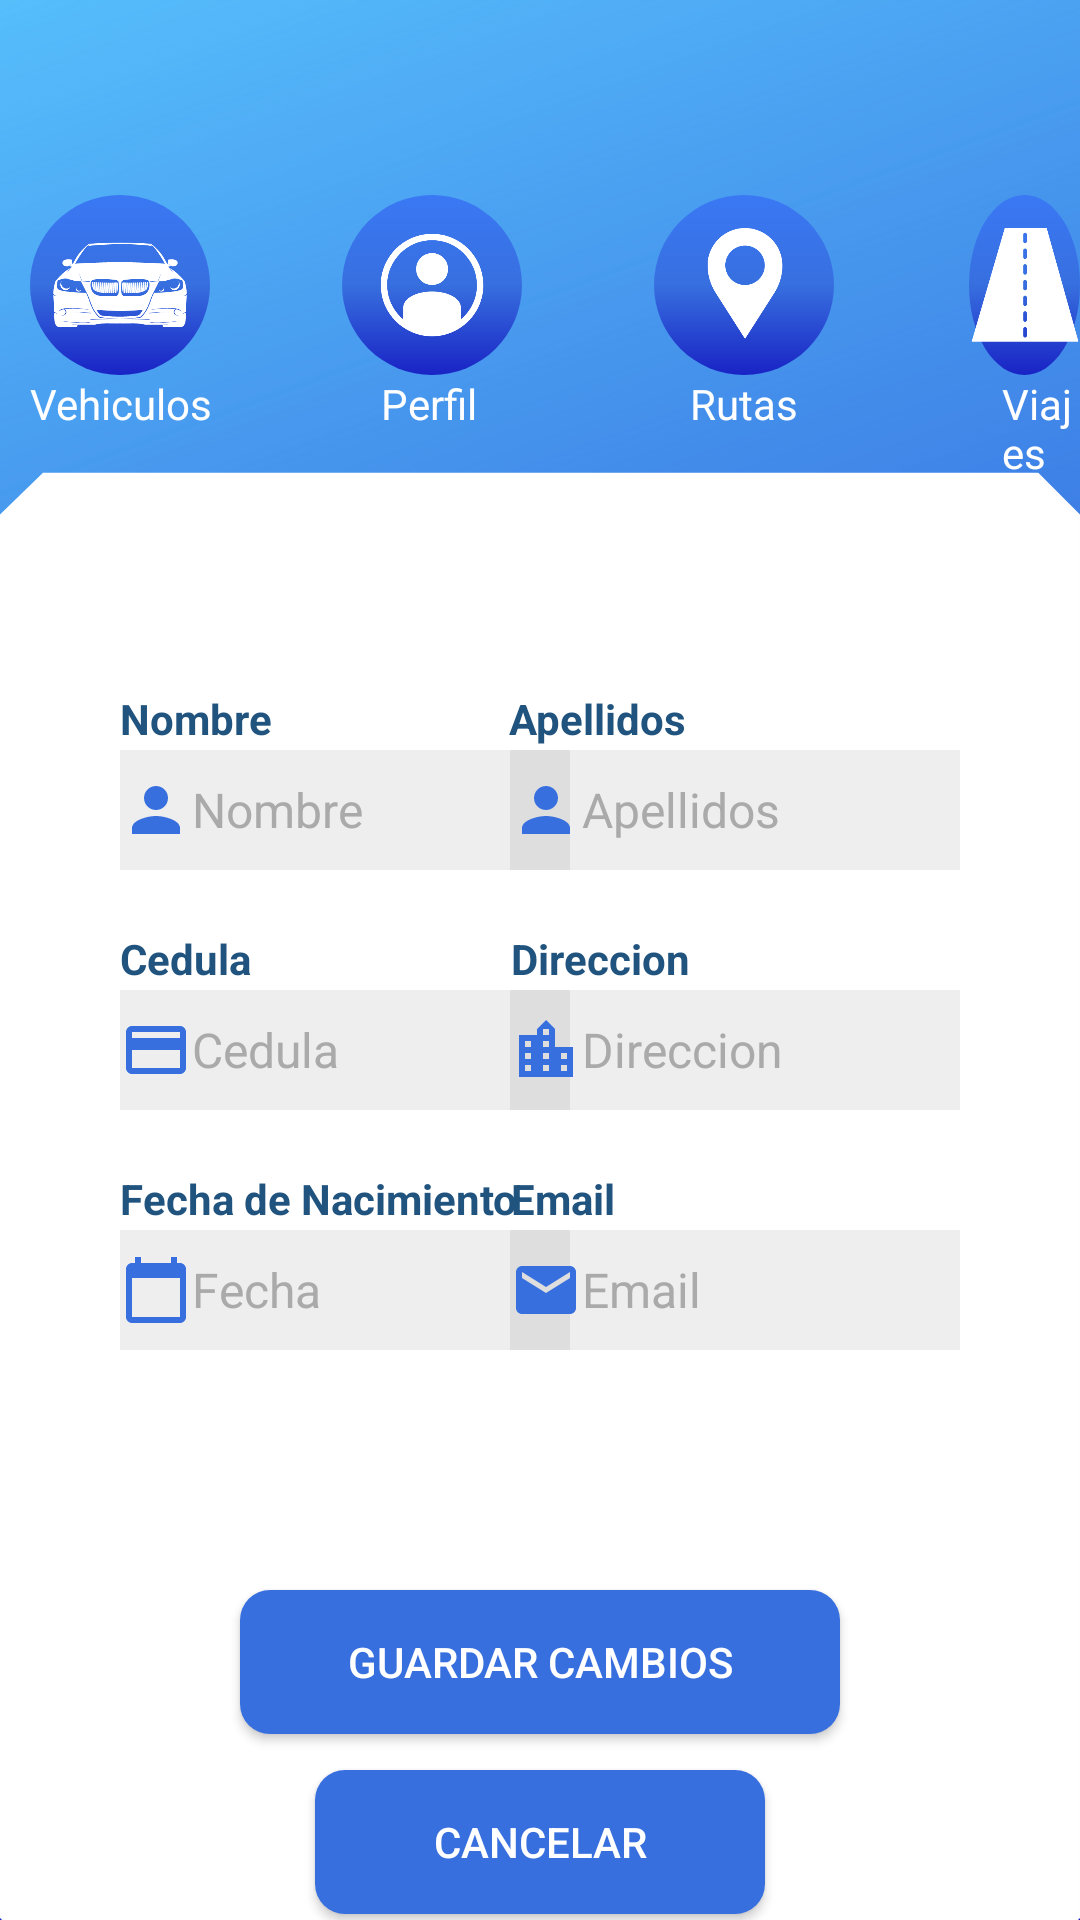

Icon click points for this 1080 x 1920 phone screenshot, format (x=x, y=y):
pointer: (x=744, y=285)
road: (x=1024, y=301)
